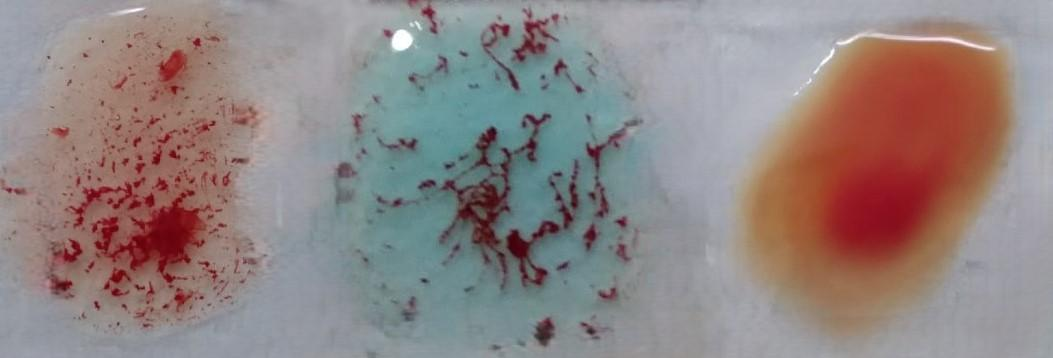A: (331, 4, 634, 352)
D: (9, 9, 251, 341)
